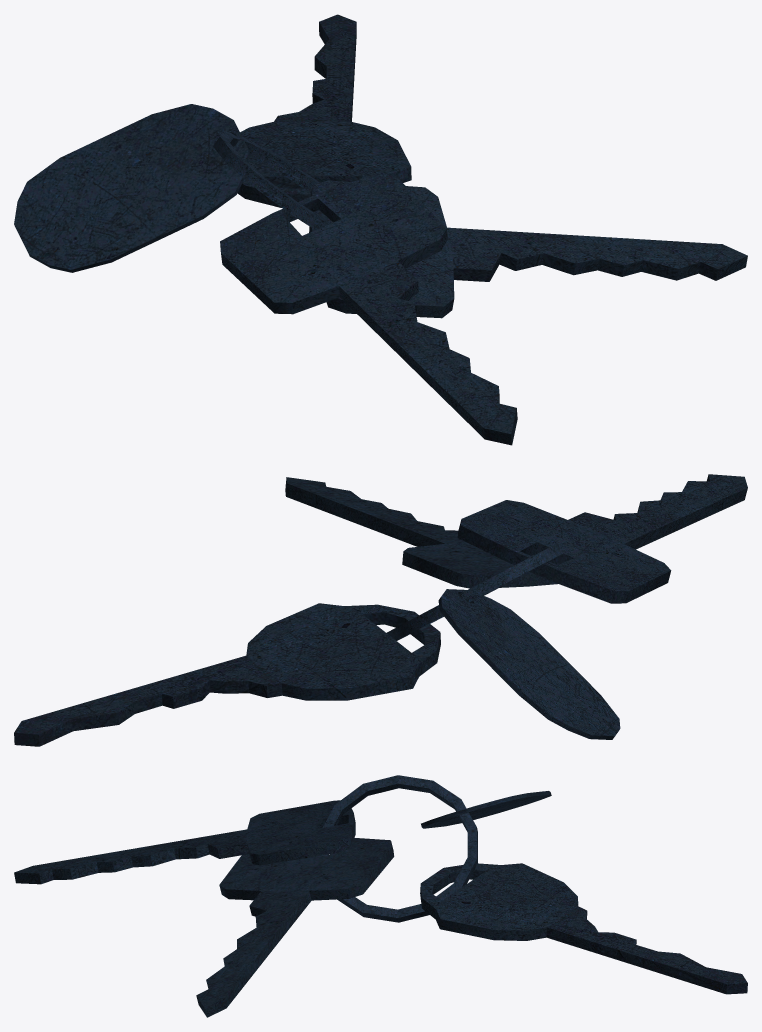
The model's file is keys_apartment.dae.
3 views of the same model, one above another, from view 1: azimuth 30°, elevation 25°; view 2: azimuth 150°, elevation 25°; view 3: azimuth 270°, elevation 25° (orthographic). The views are drawn at different scales.
Parts seen in each view (by area): view 1: polySurface1; view 2: polySurface1; view 3: polySurface1.
Part boxes in pixels (<box>): polySurface1: <box>14,14,747,445</box>; polySurface1: <box>14,474,747,746</box>; polySurface1: <box>14,775,747,1017</box>.
Bounding box in the file's own units: 35.08 × 7.68 × 53.71.
Materials: 1 (1 with a texture image).
